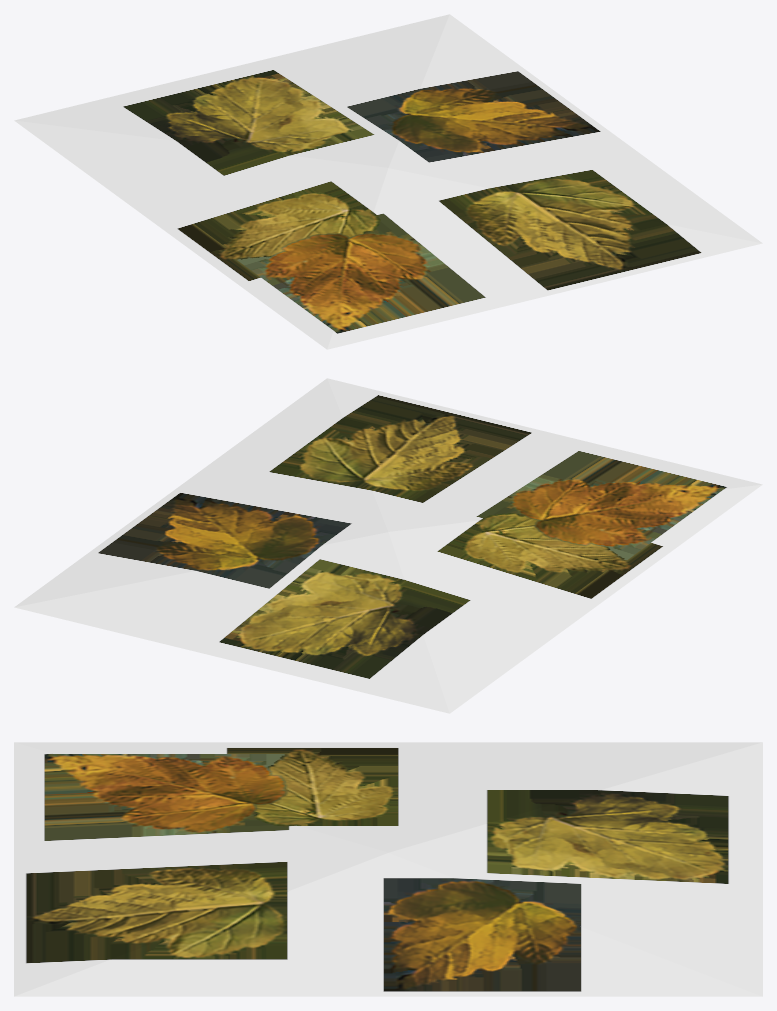
File: Leaves_Floor_01_B.fbx
3 views of the same model, one above another, from view 1: azimuth 30°, elevation 25°; view 2: azimuth 150°, elevation 25°; view 3: azimuth 270°, elevation 25° (orthographic). The views are drawn at different scales.
Parts seen in each view (by area): view 1: Leaves_Floor_01_B; view 2: Leaves_Floor_01_B; view 3: Leaves_Floor_01_B.
Part boxes in pixels (box(x1,y1,x2,y2)): Leaves_Floor_01_B: box(14, 14, 762, 349); Leaves_Floor_01_B: box(14, 378, 762, 713); Leaves_Floor_01_B: box(14, 742, 762, 996).
Bounding box in the file's own units: 56.57 × 1.73 × 70.4.
